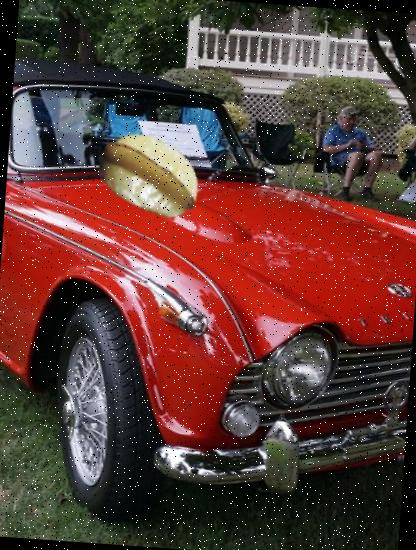Carambula: (94, 118, 209, 232)
